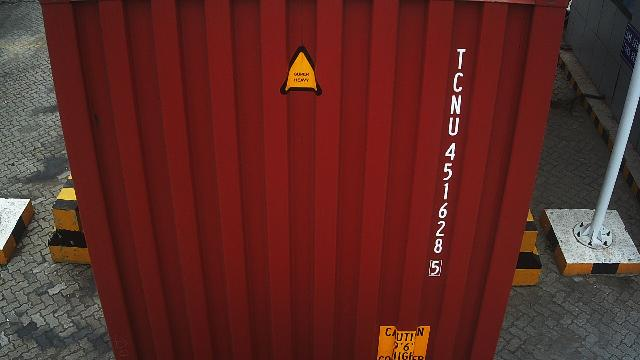1: (443, 182, 449, 200)
2: (436, 220, 446, 236)
4: (444, 142, 456, 160)
5: (428, 259, 442, 275), (443, 163, 453, 181)
6: (438, 202, 448, 219)
8: (433, 238, 442, 254)
C: (452, 72, 463, 92)
N: (450, 94, 462, 114)
T: (456, 48, 466, 70)
U: (448, 116, 460, 136)
